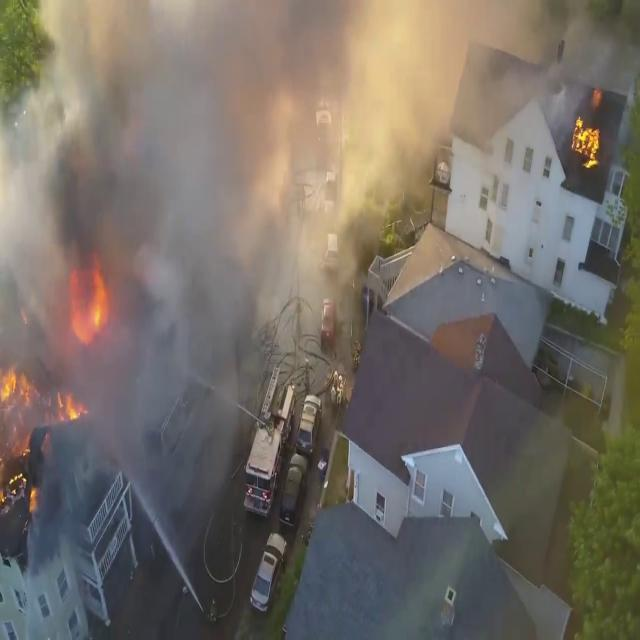Fire: (68, 252, 110, 346), (570, 108, 604, 170), (0, 358, 31, 410)
Smoke: (1, 0, 581, 403)
